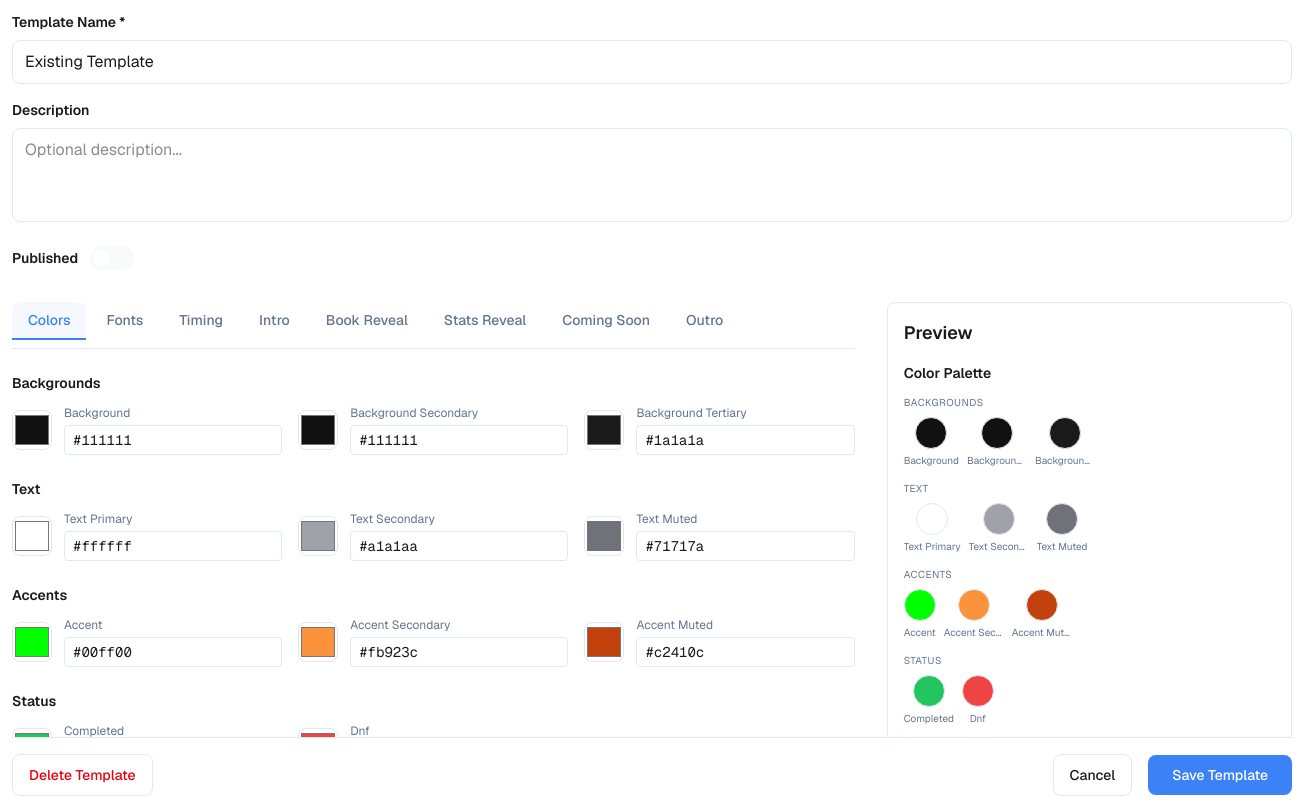
Test: Template Create and Edit Pages › edit page fetches and passes the existing template config to the editor
This screenshot has width=1304, height=812.
Expected: the field with test id "template-name-input" holds "Existing Template", [12,40,1292,84]
# Verify fonts are populated from the initial config
Click the button "Fonts".
click(125, 321)  # box [90,302,159,340]
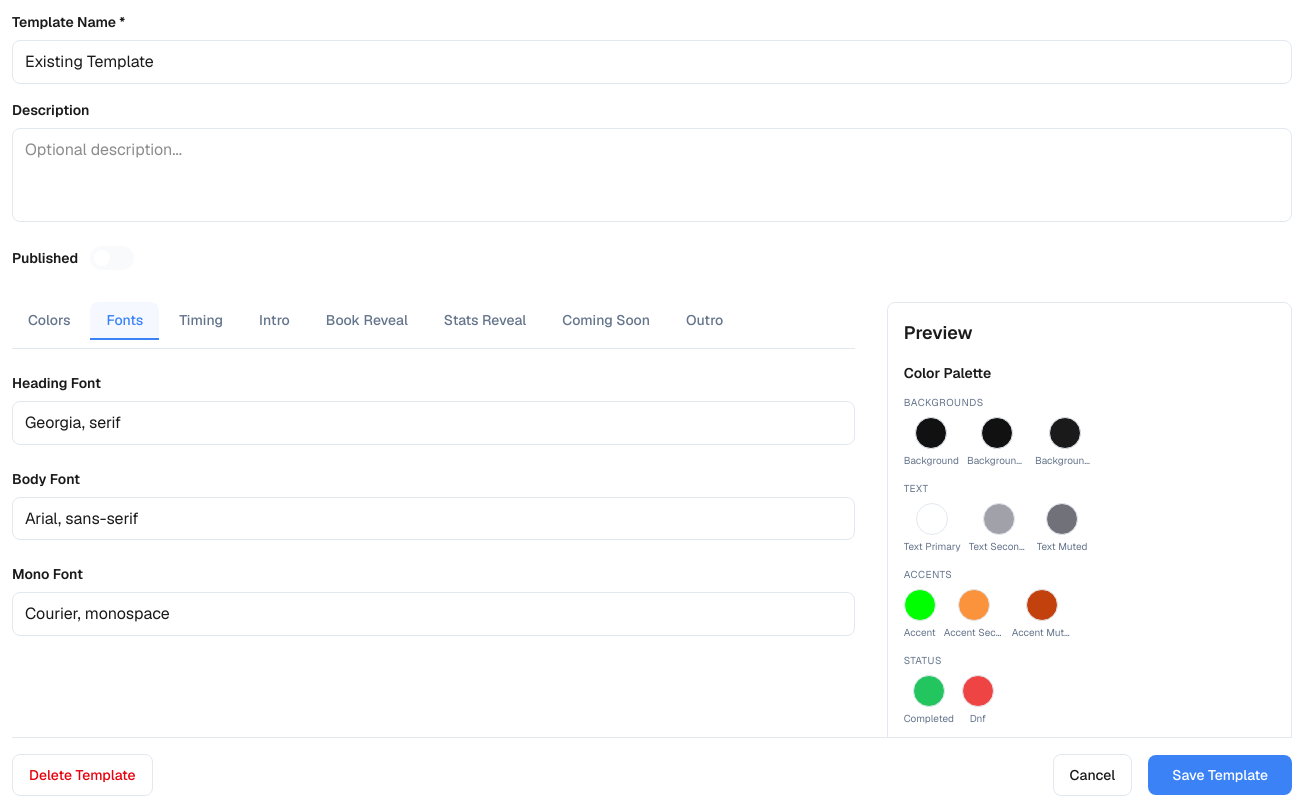
Expected: the field with test id "font-heading-input" holds "Georgia, serif", [12,401,855,445]
# Verify intro layout from initial config
Click the button "Intro".
click(274, 321)  # box [243,302,306,340]
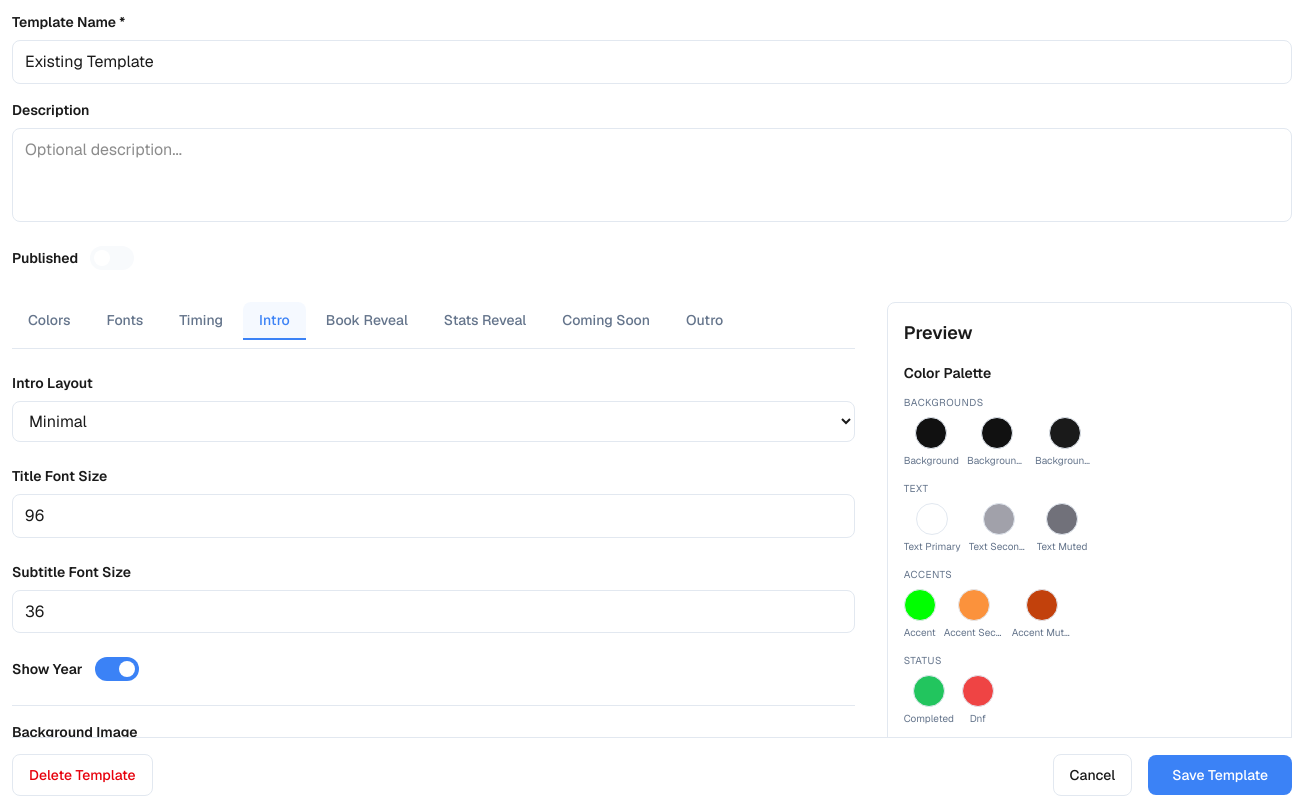
Expected: the dropdown with test id "intro-layout-select" shows "Minimal", [12,401,855,442]
# Verify outro custom text from initial config
Click the button "Outro".
click(705, 321)  # box [670,302,739,340]
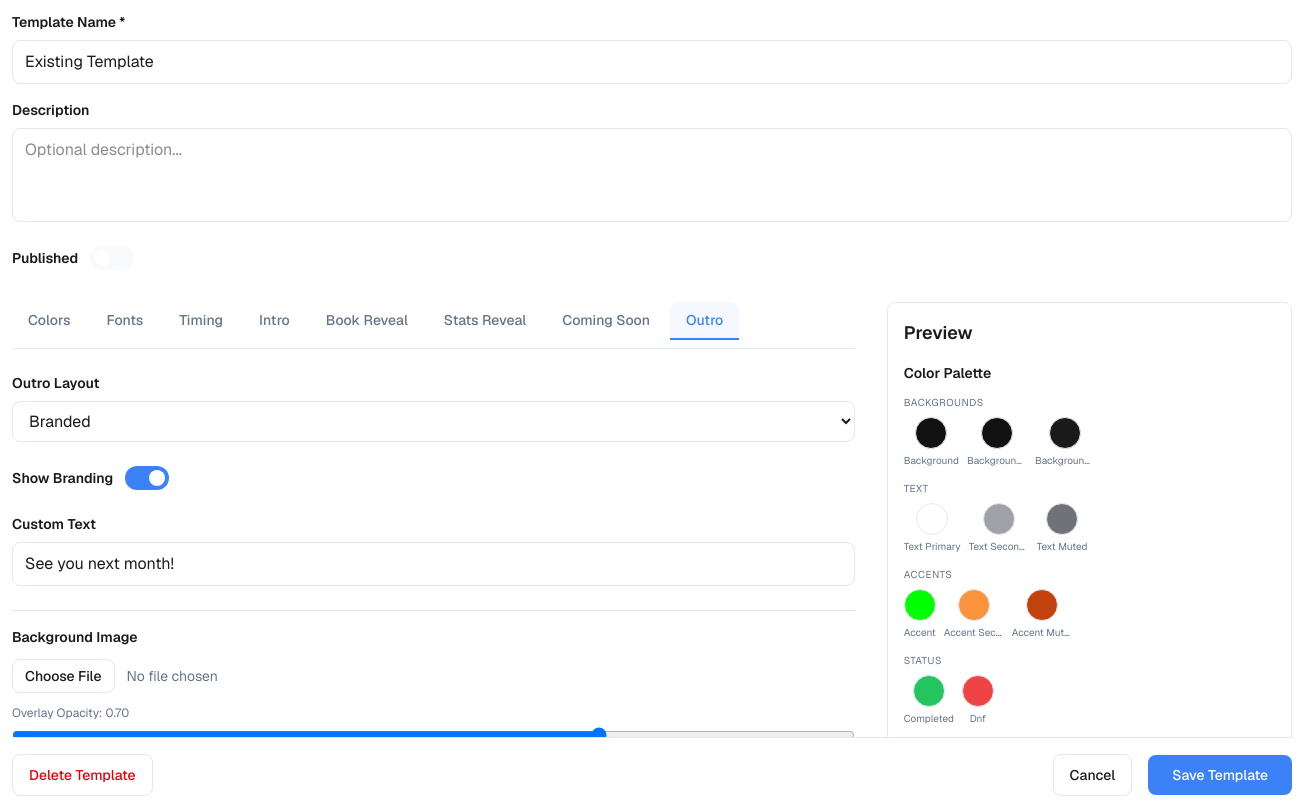
Expected: the field with test id "outro-customText" holds "See you next month!", [12,542,855,586]
# Verify the coming soon maxBooks from initial config
Click the button "Coming Soon".
click(606, 321)  # box [546,302,666,340]
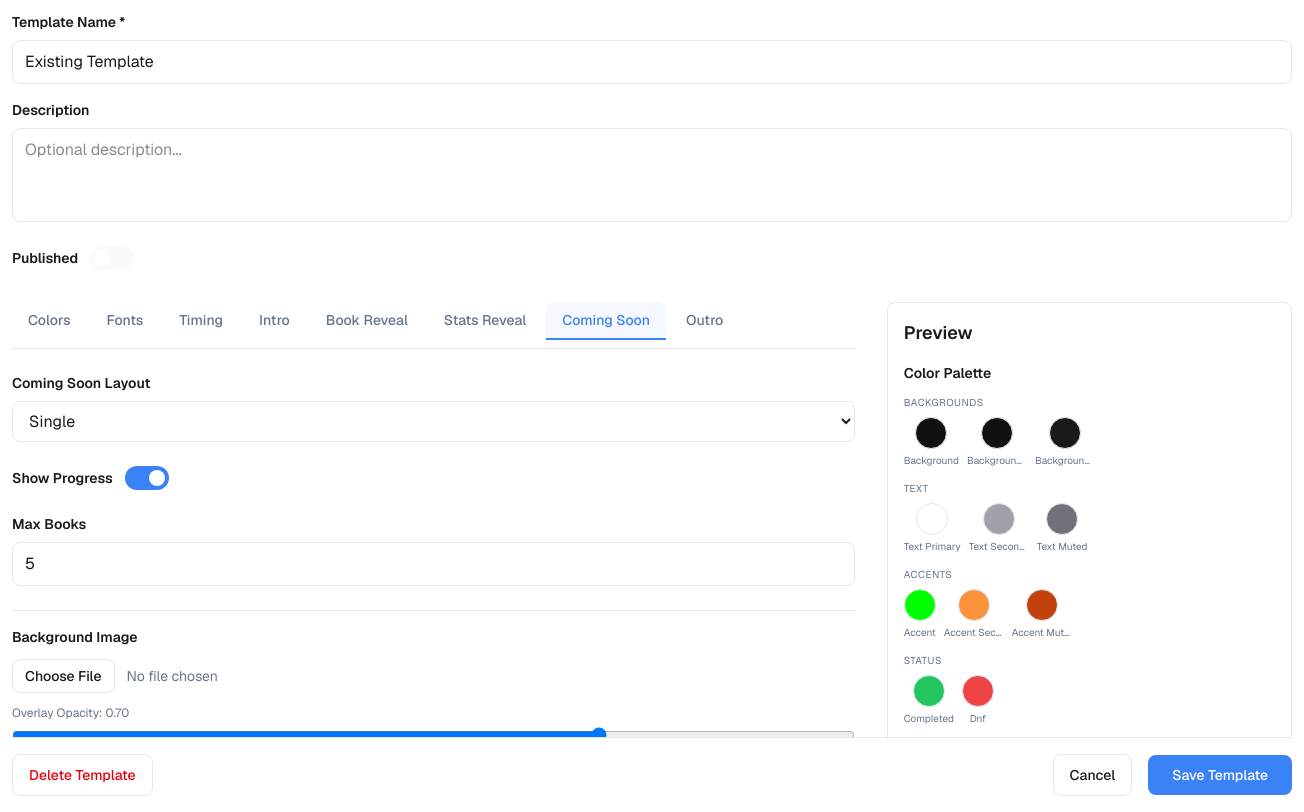
Expected: the number field with test id "comingSoon-maxBooks" holds "5", [12,542,855,586]
